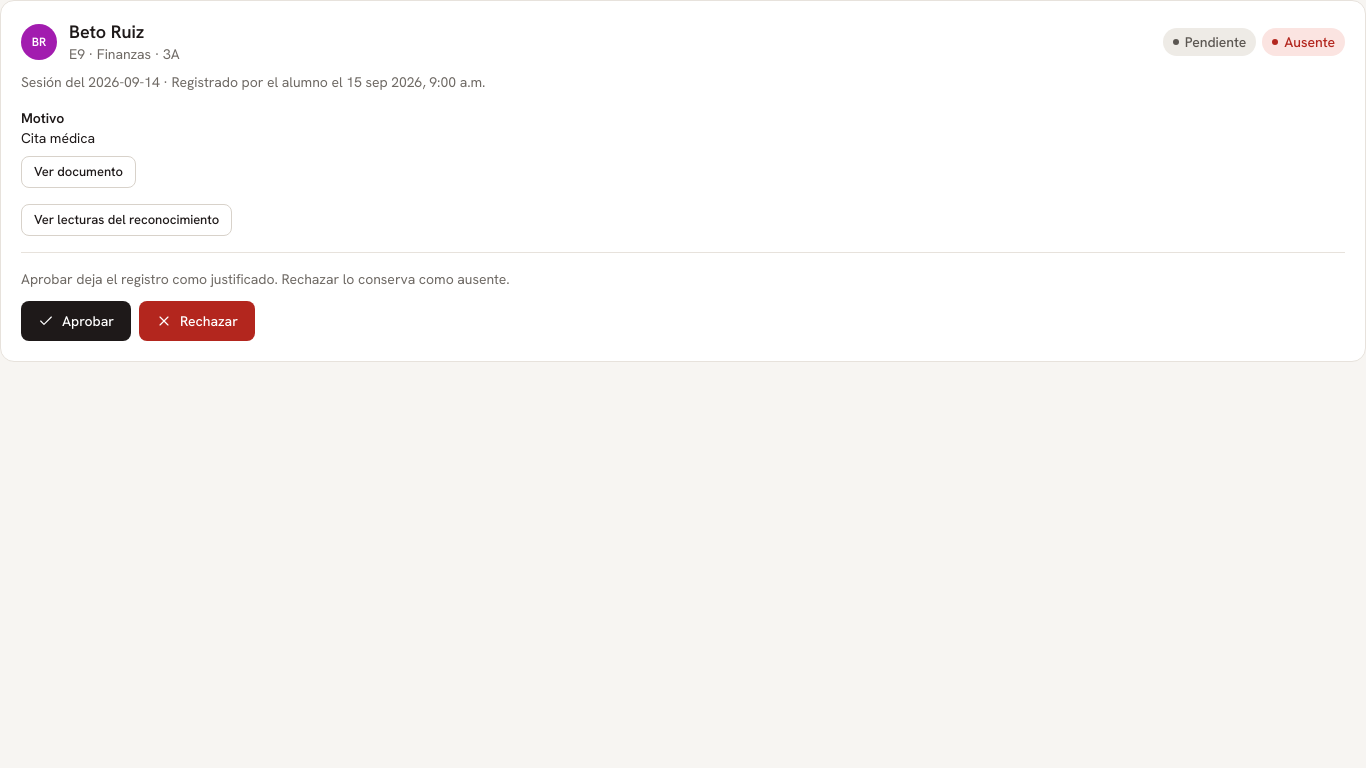
Test: JustificanteCard › si el servidor dice que ya estaba resuelto, cierra el diálogo, avisa el error y pide recargar
The width and height of the screenshot is (1366, 768).
Click the button "Aprobar" at (76, 320), box [21,300,131,340]
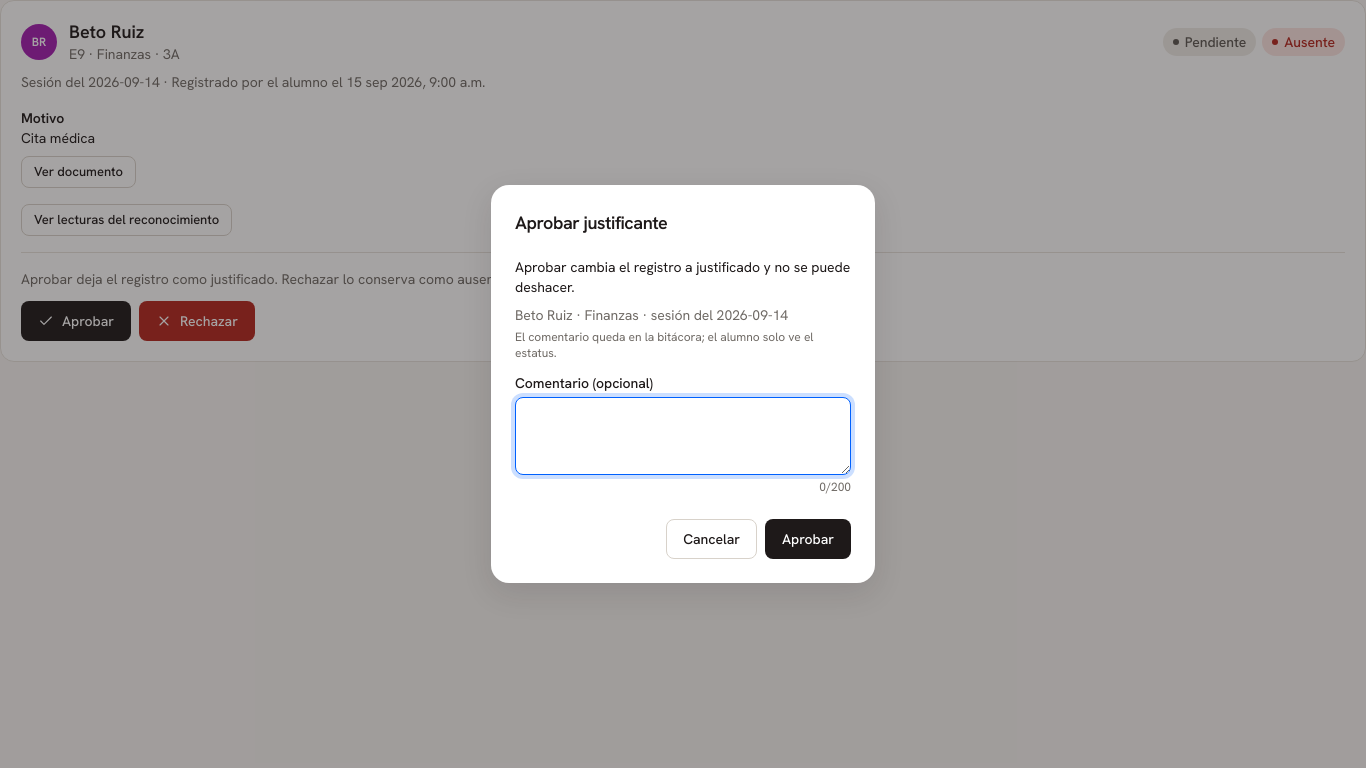
Click the button "Aprobar" at (808, 539), box [765,519,851,559]
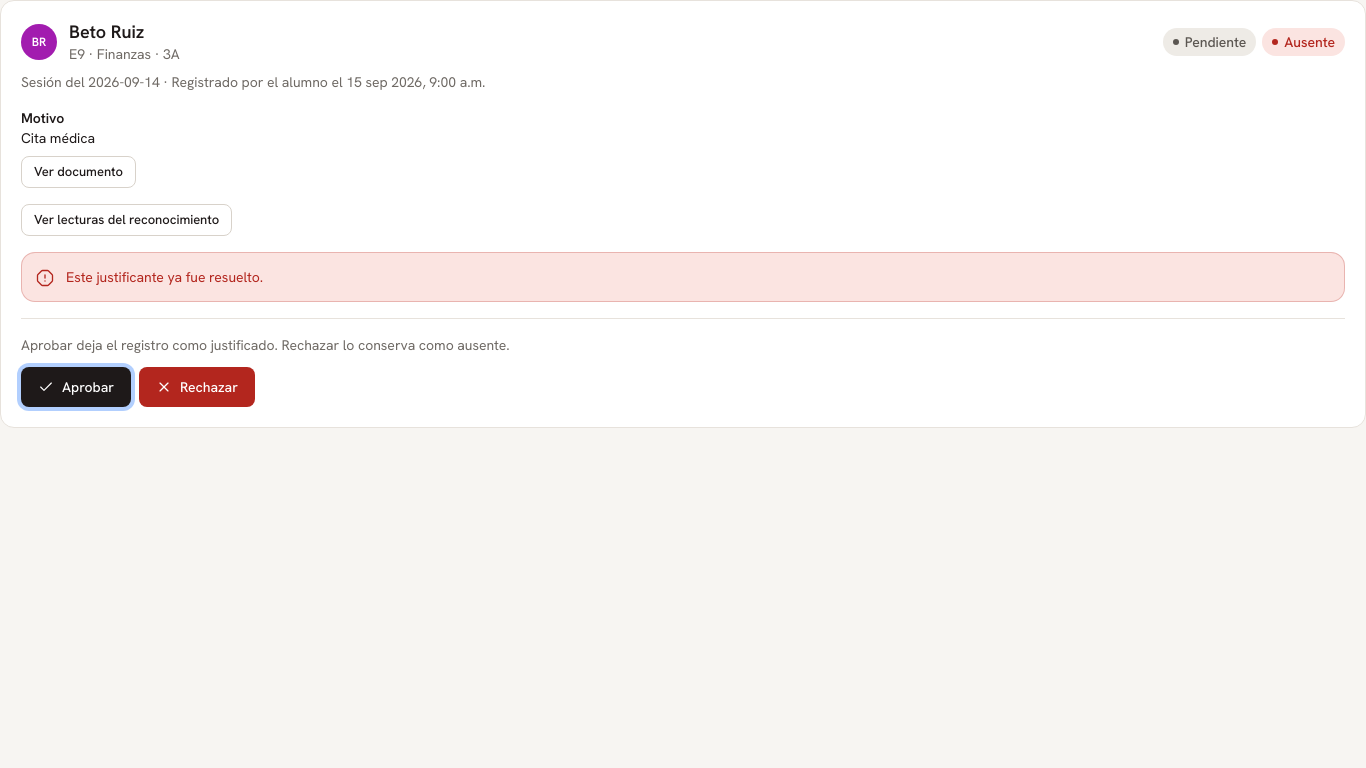
Expected: the text "Este justificante ya fue resuelto." is shown, [66,268,263,286]
Expected: the dialog is gone
